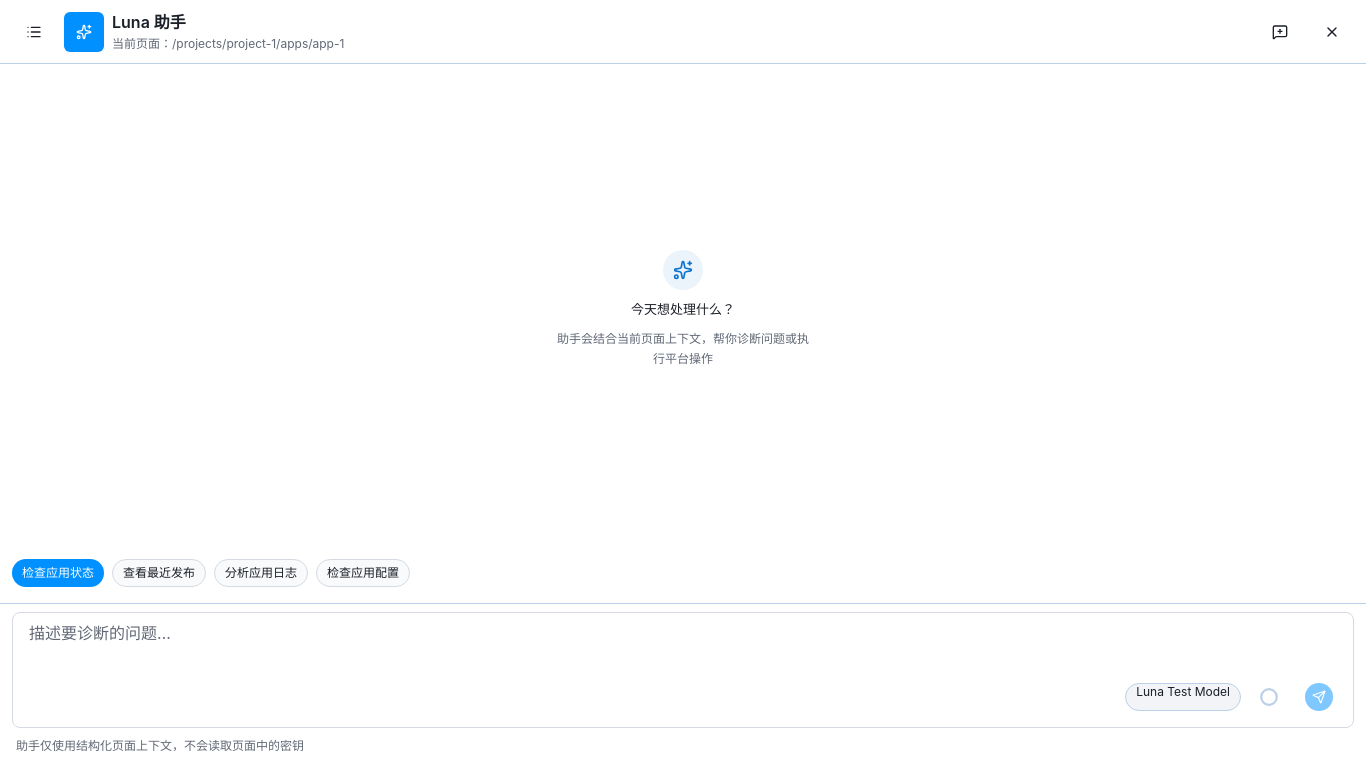
ai assistant route page › pushes the conversation view and returns to chat through browser history
The width and height of the screenshot is (1366, 768).
Expected: the heading "Luna 助手" is shown, [112,12,186,32]
Step 1. Click the button named "会话" → (34, 32), box [12,10,56,54]
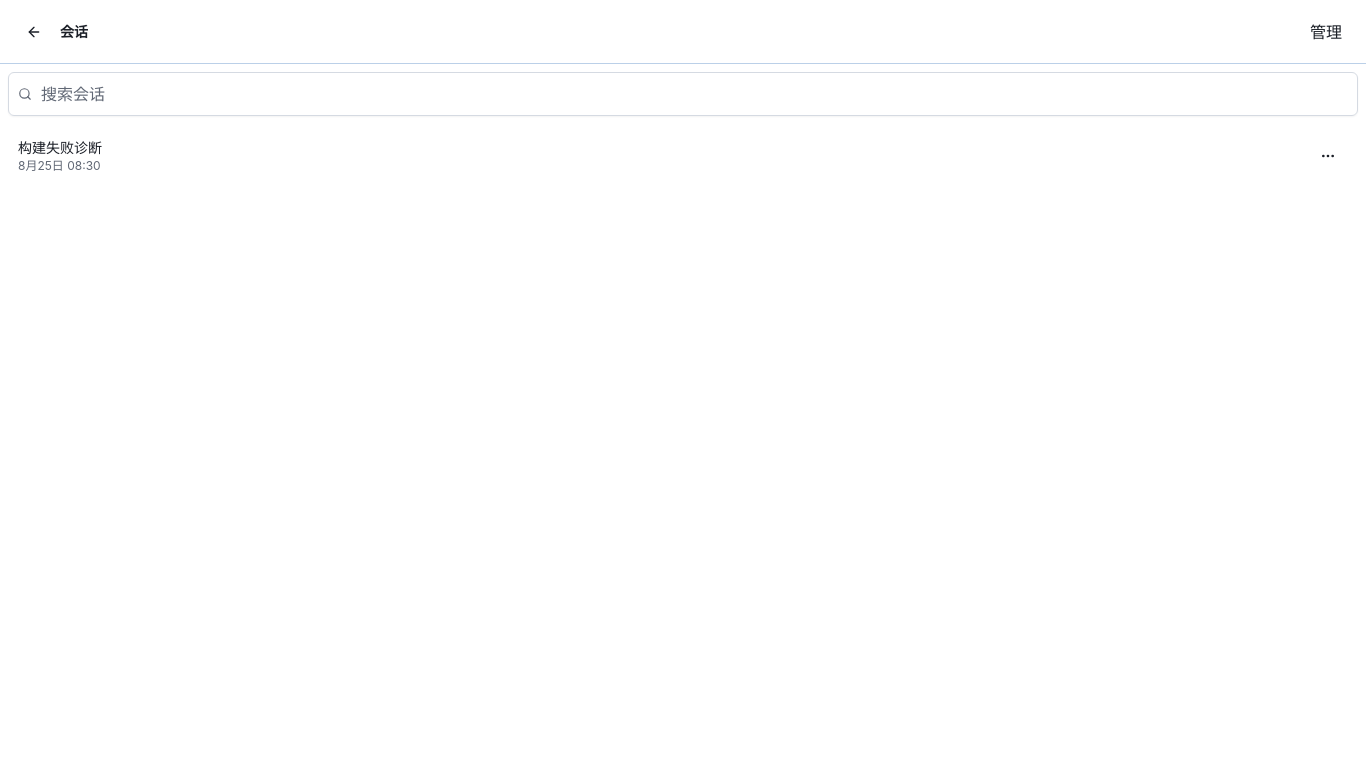
Expected: the element showing "会话 管理 构建失败诊断 8月25日 08:30" is shown
Expected: the heading "会话" is shown, [60,22,88,40]
Step 2. Click the button named "返回" → (34, 32), box [12,10,56,54]
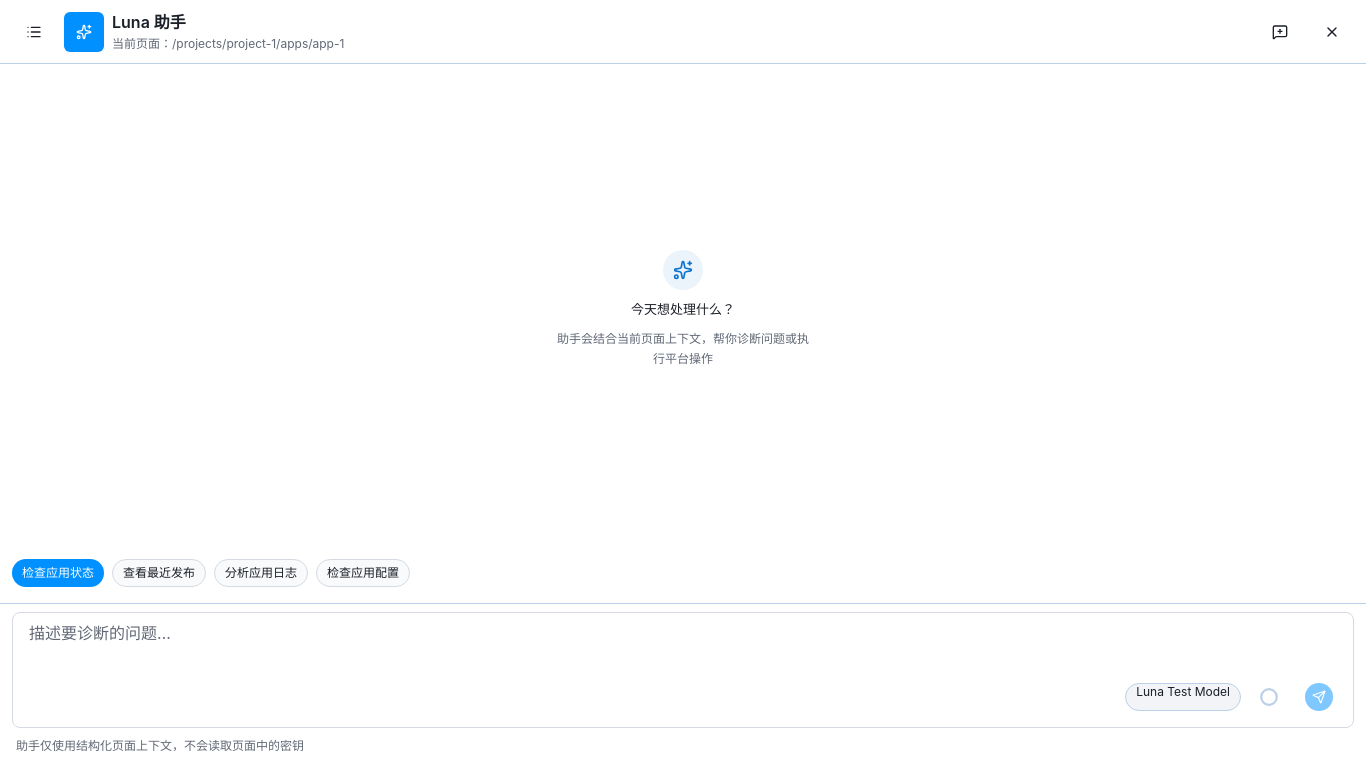
Expected: the element that starts with "Luna 助手" is shown
